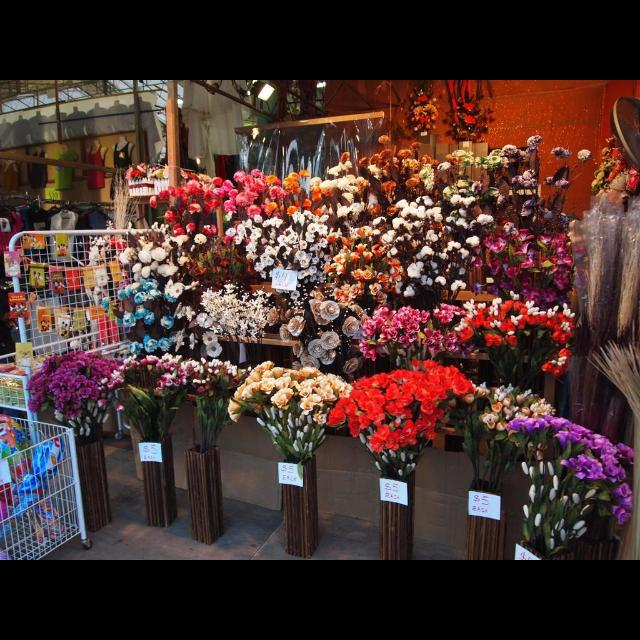Flower: (22, 90, 640, 552), (387, 383, 419, 415)
